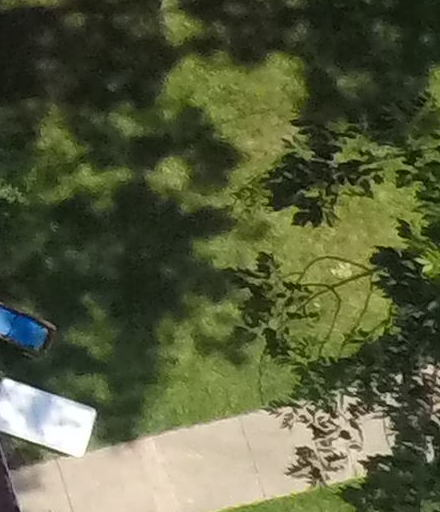toy: (1, 297, 57, 353)
